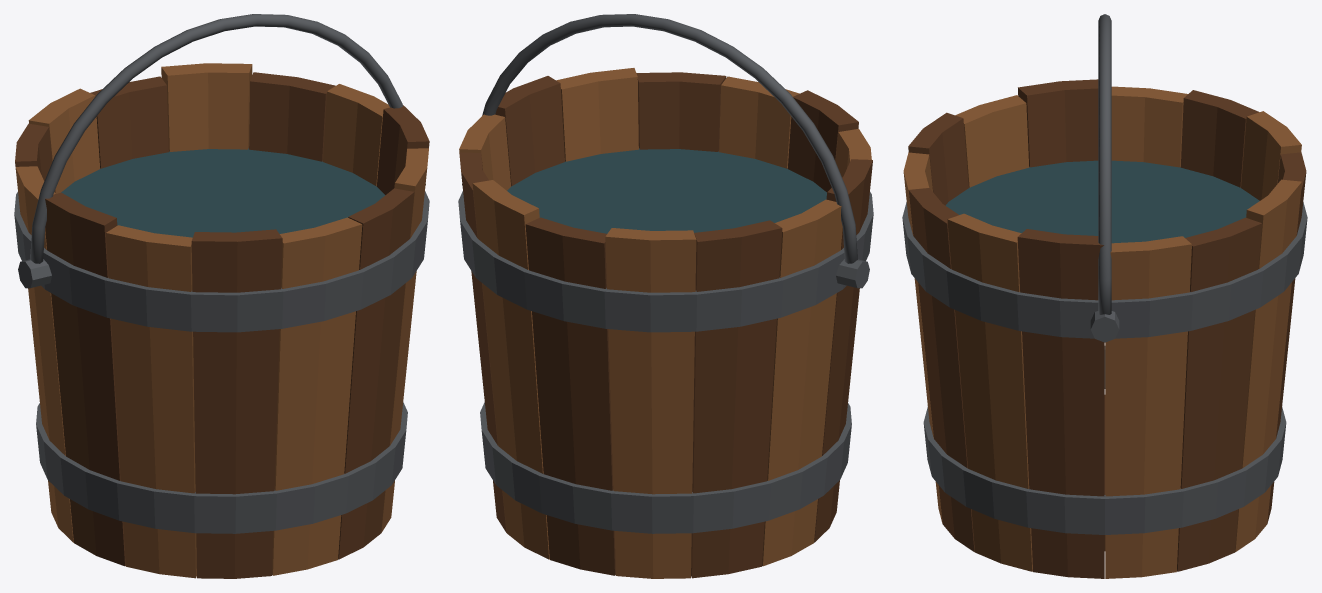
The model's file is water-bucket_final.glb.
3 views of the same model, side by side, from view 1: azimuth 30°, elevation 25°; view 2: azimuth 150°, elevation 25°; view 3: azimuth 270°, elevation 25° (orthographic). The views are drawn at different scales.
Parts seen in each view (by area): view 1: SM_WaterBucket_Staves, SM_WaterBucket_Hoops, SM_WaterBucket_Water, SM_WaterBucket_Bail, SM_WaterBucket_Lugs; view 2: SM_WaterBucket_Staves, SM_WaterBucket_Hoops, SM_WaterBucket_Water, SM_WaterBucket_Bail, SM_WaterBucket_Lugs; view 3: SM_WaterBucket_Staves, SM_WaterBucket_Hoops, SM_WaterBucket_Water, SM_WaterBucket_Bail, SM_WaterBucket_Lugs.
Part boxes in pixels (box(x1,y1,x2,y2)): SM_WaterBucket_Staves: box(15, 63, 429, 578); SM_WaterBucket_Hoops: box(14, 191, 429, 533); SM_WaterBucket_Water: box(61, 148, 385, 237); SM_WaterBucket_Bail: box(30, 14, 402, 263); SM_WaterBucket_Lugs: box(18, 184, 425, 288); SM_WaterBucket_Staves: box(459, 68, 872, 578); SM_WaterBucket_Hoops: box(458, 191, 873, 533); SM_WaterBucket_Water: box(507, 148, 826, 233); SM_WaterBucket_Bail: box(482, 14, 857, 263); SM_WaterBucket_Lugs: box(462, 184, 869, 288); SM_WaterBucket_Staves: box(903, 79, 1306, 578); SM_WaterBucket_Hoops: box(902, 202, 1307, 534); SM_WaterBucket_Water: box(945, 160, 1259, 243); SM_WaterBucket_Bail: box(1098, 14, 1111, 314); SM_WaterBucket_Lugs: box(1090, 311, 1119, 342).
Bounding box in the file's own units: 0.3713 × 0.44 × 0.3406.
